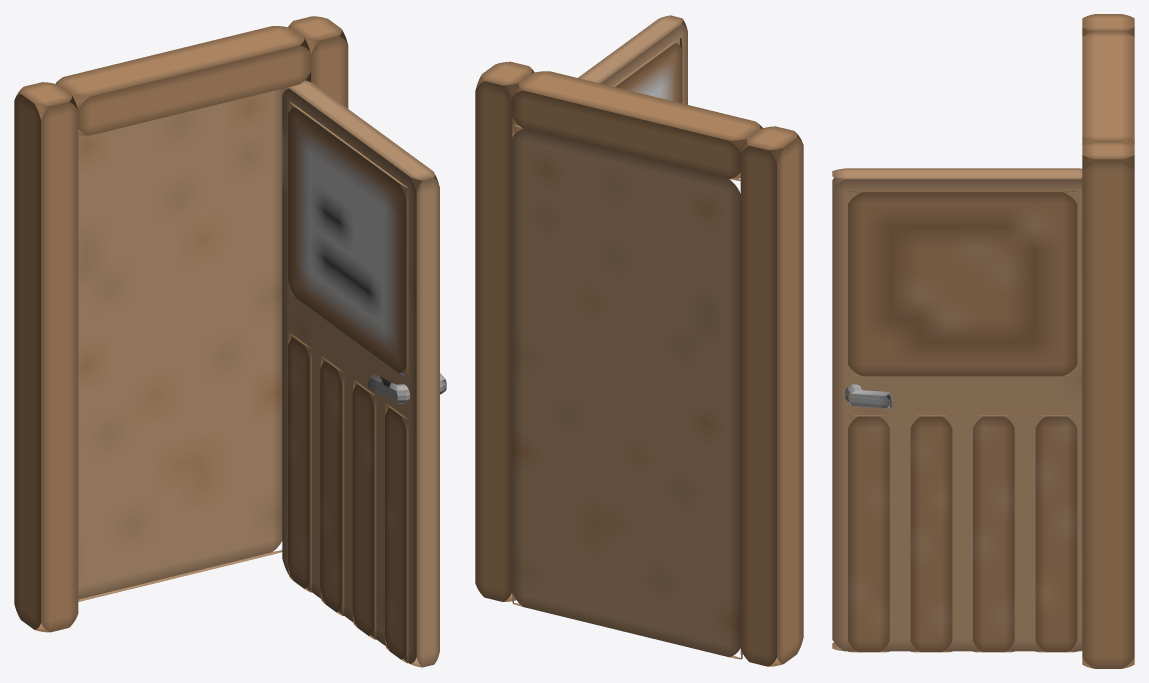
Rendered from Door.fbx.
The picture shows the model from 3 angles, left to right: view 1: azimuth 30°, elevation 25°; view 2: azimuth 150°, elevation 25°; view 3: azimuth 270°, elevation 25°; orthographic projection. The views are drawn at different scales.
Parts seen in each view (by area): view 1: BackBoard, LeftFrame, Door_1, DoorPlank_6, TopFrame, DoorPlank_7, DoorPlank_8, DoorPlank_9, DoorPlank_5, RightFrame, Handtag_1; view 2: BackBoard, LeftFrame, RightFrame, TopFrame, Door_1, DoorPlank_6; view 3: DoorPlank_4, Door_1, RightFrame, DoorPlank, DoorPlank_2, DoorPlank_1, DoorPlank_3, TopFrame, LeftFrame, Handtag.
Part boxes in pixels (bbox=[...]): BackBoard: bbox=[78, 88, 284, 601]; LeftFrame: bbox=[14, 82, 78, 632]; Door_1: bbox=[282, 78, 439, 667]; DoorPlank_6: bbox=[288, 101, 408, 378]; TopFrame: bbox=[55, 26, 310, 135]; DoorPlank_7: bbox=[320, 356, 344, 615]; DoorPlank_8: bbox=[352, 380, 376, 639]; DoorPlank_9: bbox=[385, 404, 408, 663]; DoorPlank_5: bbox=[288, 333, 311, 592]; RightFrame: bbox=[288, 16, 348, 108]; Handtag_1: bbox=[368, 374, 409, 403]; BackBoard: bbox=[512, 124, 742, 659]; LeftFrame: bbox=[740, 126, 803, 666]; RightFrame: bbox=[475, 61, 534, 601]; TopFrame: bbox=[512, 71, 762, 178]; Door_1: bbox=[578, 15, 687, 104]; DoorPlank_6: bbox=[613, 37, 682, 103]; DoorPlank_4: bbox=[848, 191, 1077, 376]; Door_1: bbox=[832, 168, 1082, 651]; RightFrame: bbox=[1082, 141, 1134, 668]; DoorPlank: bbox=[1035, 415, 1077, 652]; DoorPlank_2: bbox=[910, 415, 952, 652]; DoorPlank_1: bbox=[973, 415, 1014, 652]; DoorPlank_3: bbox=[848, 415, 889, 652]; TopFrame: bbox=[1082, 31, 1134, 145]; LeftFrame: bbox=[1082, 14, 1134, 36]; Handtag: bbox=[845, 384, 893, 408].
Size of the model in its own units: 20.62 by 33.75 by 18.12.
Materials: 1 (1 with a texture image).
